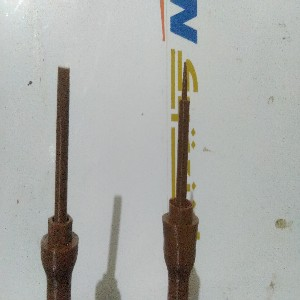obeng: (40, 66, 80, 300)
solder: (161, 60, 200, 300)
